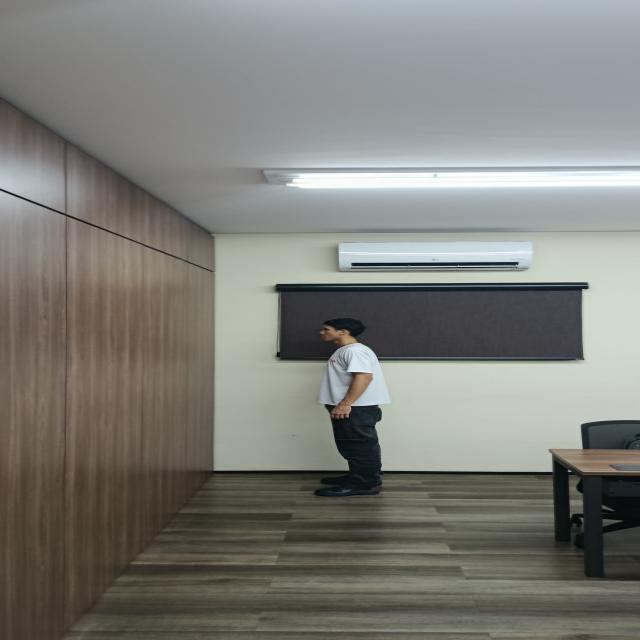sem_oculos: (318, 327, 346, 333)
